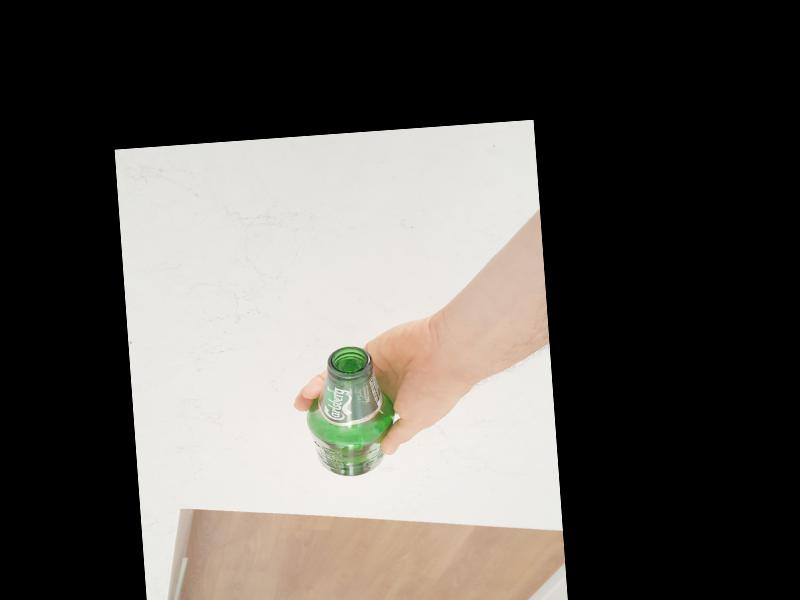Beer: (303, 343, 397, 479)
